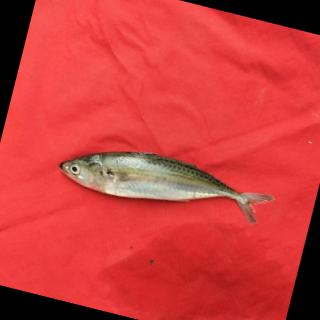Ikan: (42, 107, 294, 257)
